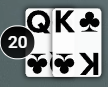k: (53, 8, 77, 36)
q: (25, 8, 52, 36)
